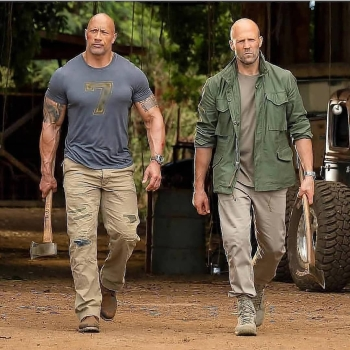hand: (190, 188, 212, 216), (296, 177, 318, 205), (37, 169, 58, 198), (143, 163, 162, 193)
